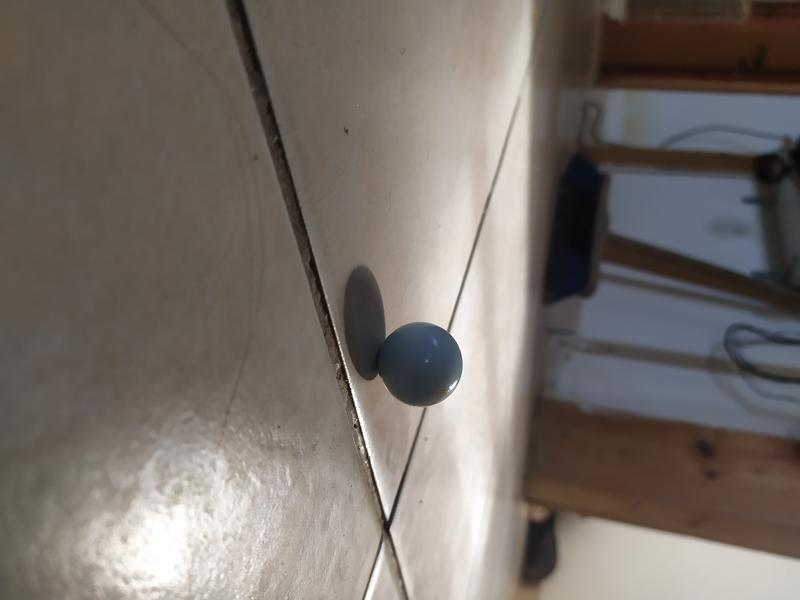Warning: (374, 319, 465, 409)
